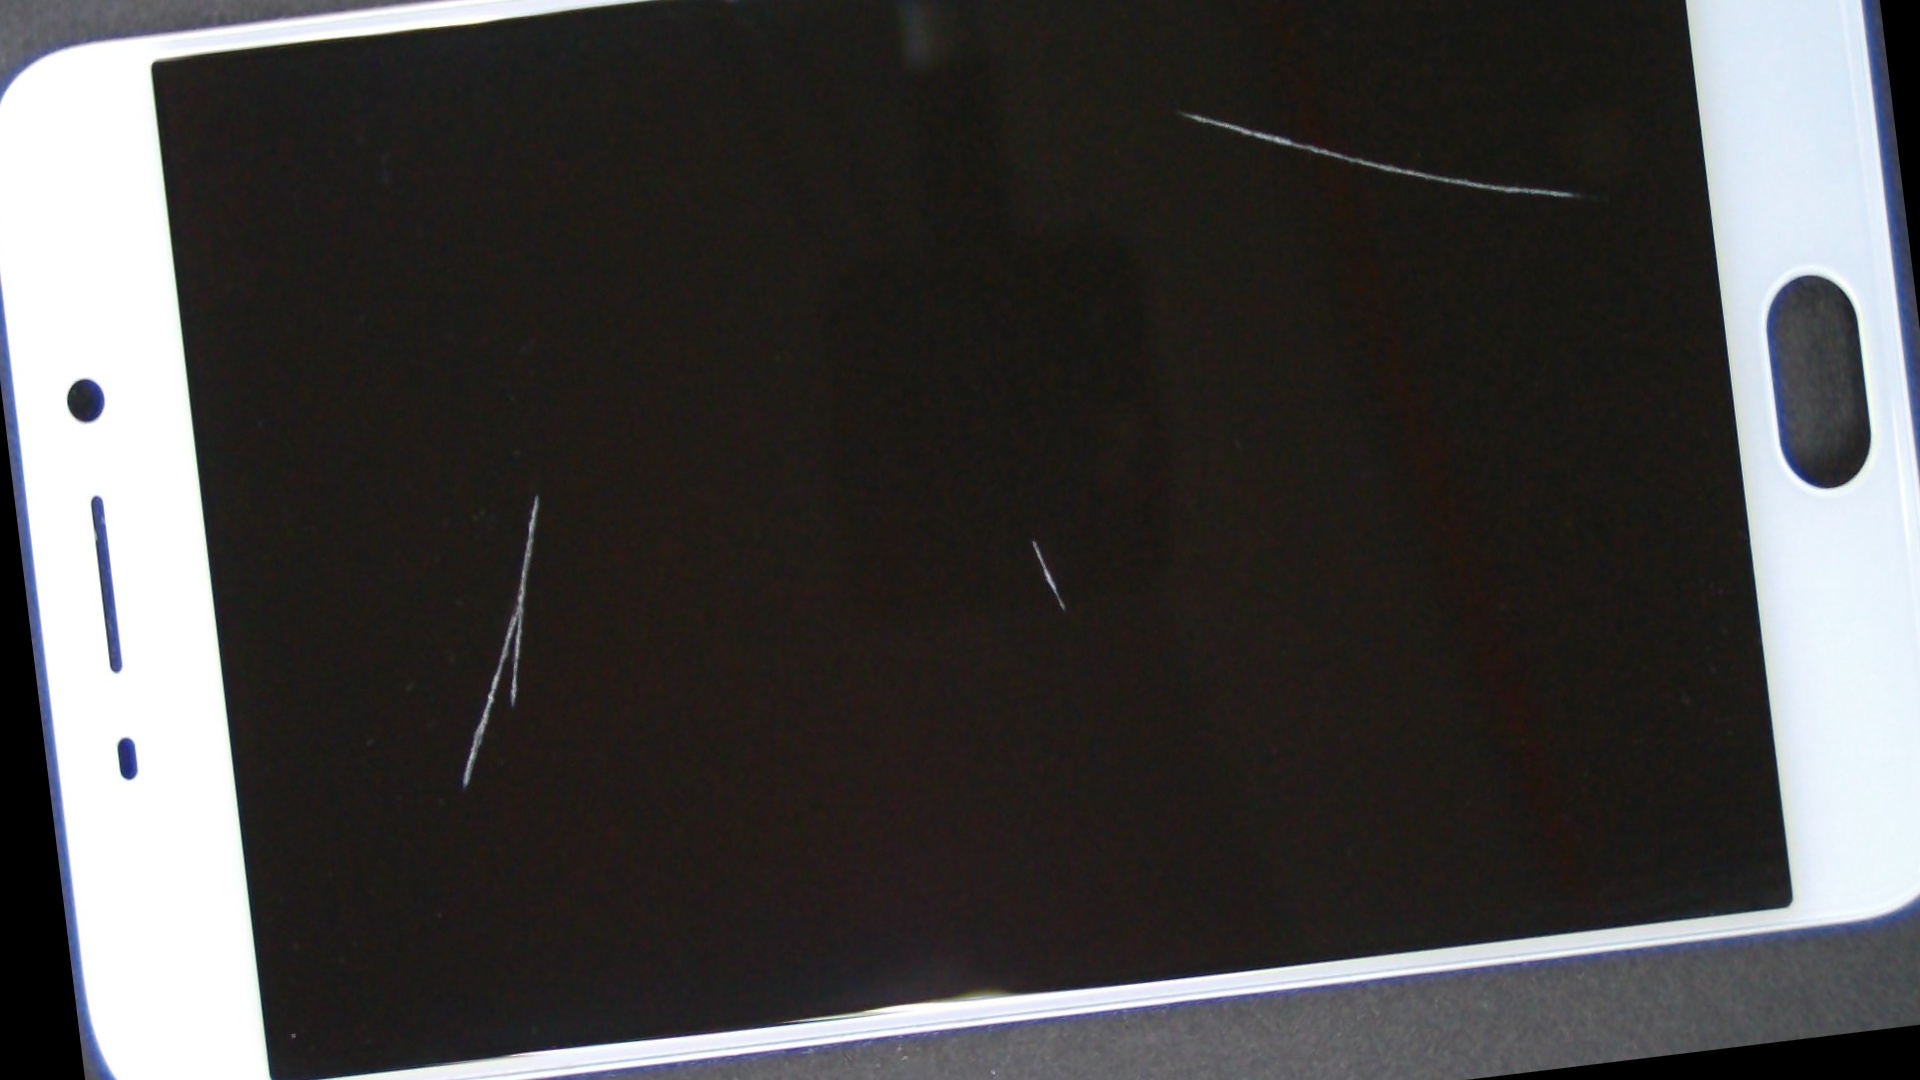oil: (492, 136, 1573, 944), (560, 0, 1795, 327), (245, 171, 831, 818)
